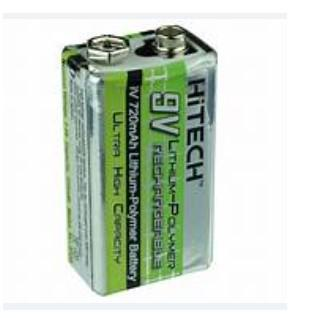9V Battery: (62, 26, 217, 298)
